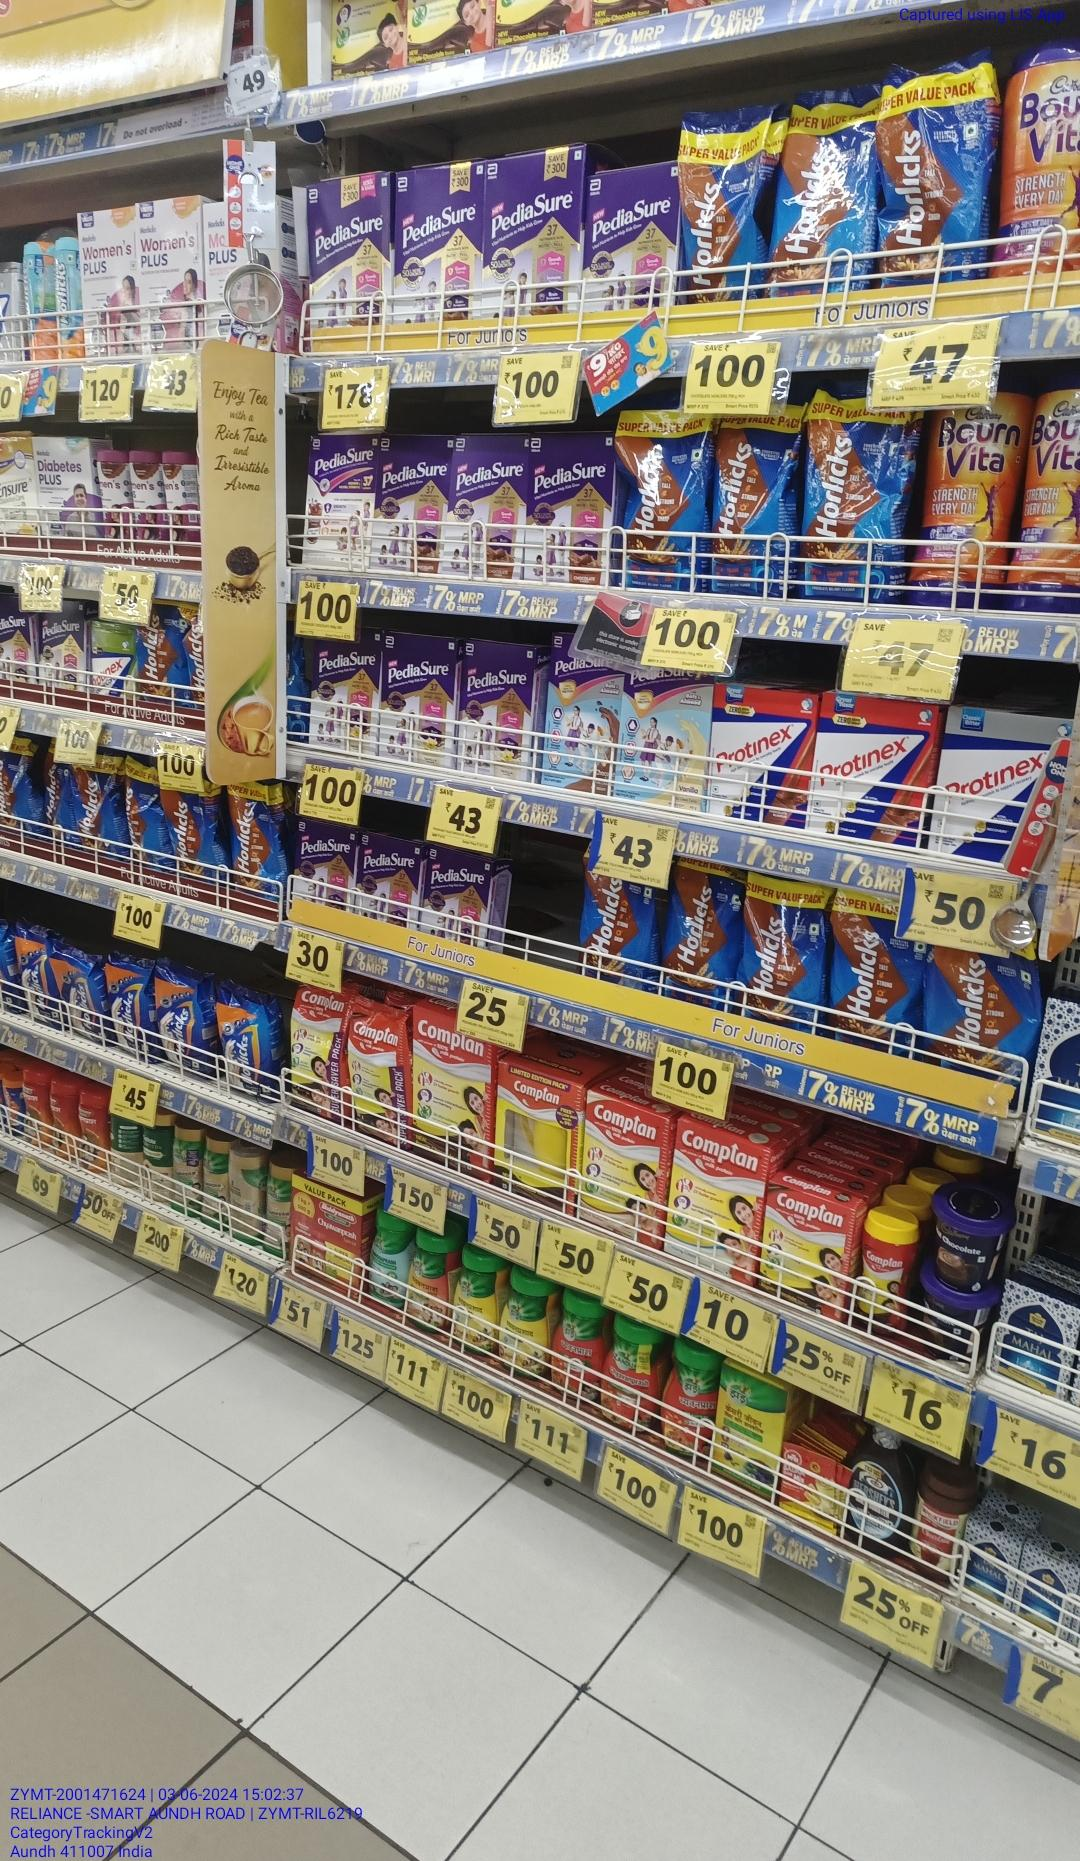BOURN_VITA_1_KG_JAR: (919, 407, 1014, 614), (1003, 37, 1080, 265), (1017, 377, 1080, 614)
COMPLAN_CHOCOLATE_200_GMS_JAR: (858, 1209, 912, 1334)
COMPLAN_CHOCOLATE_200_GMS_PACK: (766, 1182, 851, 1312)
COMPLAN_CREAMY_CLASSIC_500_G_PACK: (669, 1117, 765, 1281)
COMPLAN_RC_POUCH_700_GMS_12: (350, 996, 411, 1144), (289, 987, 347, 1131)
HORLICK_CHOCOLATE_750_G_POUCH: (805, 388, 908, 596), (617, 409, 702, 591), (928, 942, 1036, 1078), (716, 413, 791, 596), (831, 898, 912, 1049), (747, 875, 824, 1026), (669, 861, 742, 1001), (581, 874, 658, 987), (230, 783, 278, 897), (163, 778, 215, 878), (78, 757, 118, 859), (125, 757, 159, 869)
HORLICK_CLASSIC_MALT_750_G_POUCH: (154, 969, 210, 1073), (219, 988, 270, 1099), (105, 956, 149, 1058), (53, 948, 100, 1040), (19, 928, 49, 1023)
PEDIASURE_7_PLUS_CHOCOLATE_400_G_PACK: (543, 655, 621, 794)
PEDIASURE_CHOCOLATE_500_G_PACK: (527, 437, 615, 585), (450, 433, 523, 580), (379, 438, 447, 576)
PEDIASURE_VANILLA_500_G_PACK: (462, 643, 532, 784), (383, 632, 455, 767), (312, 641, 379, 754)
